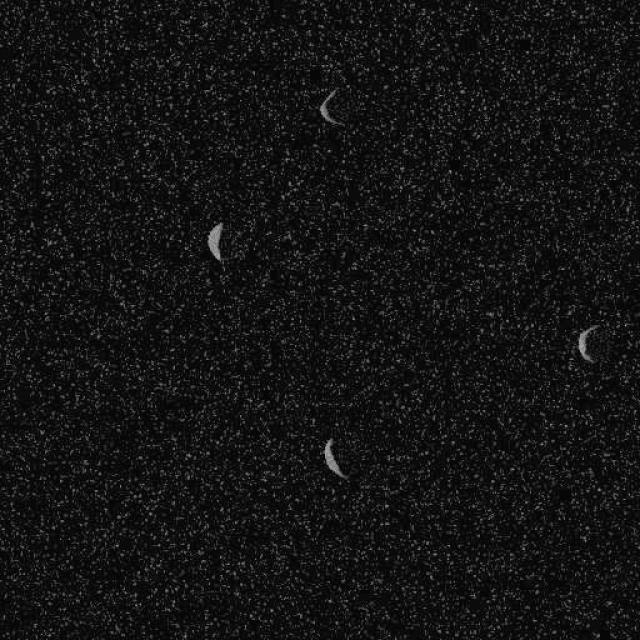D2: (321, 436, 349, 482), (317, 86, 343, 126), (575, 322, 600, 363), (205, 220, 224, 262)
